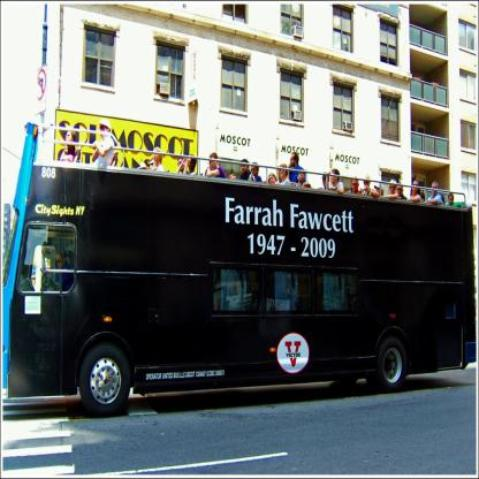bus: (8, 89, 479, 439)
